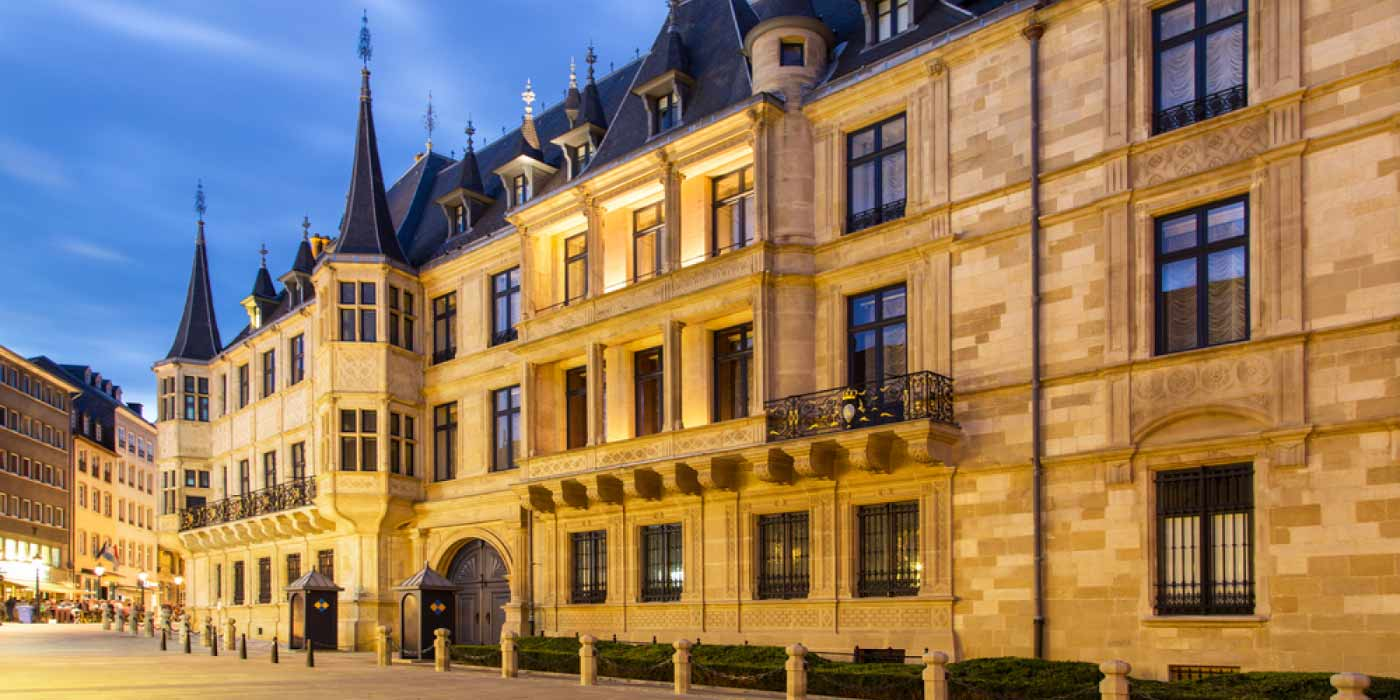Videoprojecteur: (705, 49, 1158, 170)
